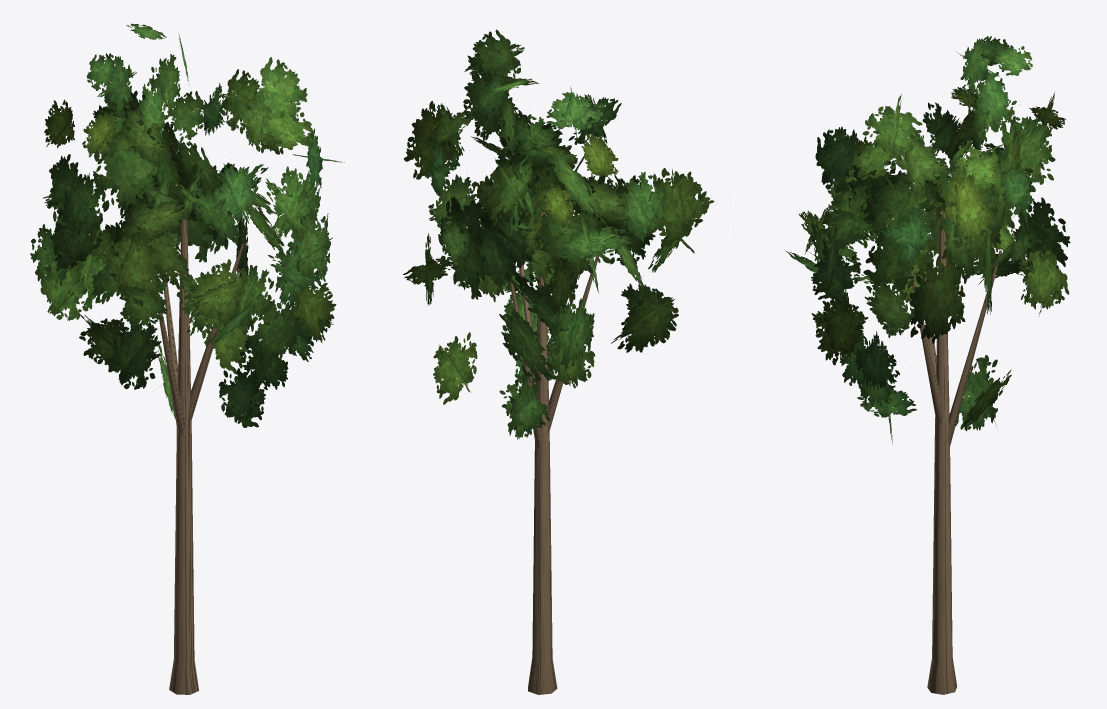
3 views of the same model, side by side, from view 1: azimuth 30°, elevation 25°; view 2: azimuth 150°, elevation 25°; view 3: azimuth 270°, elevation 25° (orthographic).
Parts seen in each view (by area): view 1: tree_5664; view 2: tree_5664; view 3: tree_5664.
Boxes of the visible parts, bbox=[...] form: tree_5664: bbox=[30, 23, 344, 694]; tree_5664: bbox=[403, 29, 714, 694]; tree_5664: bbox=[786, 36, 1070, 694].
Bounding box in the file's own units: 5.01 × 10.79 × 4.91.
Materials: 1 (1 with a texture image).
